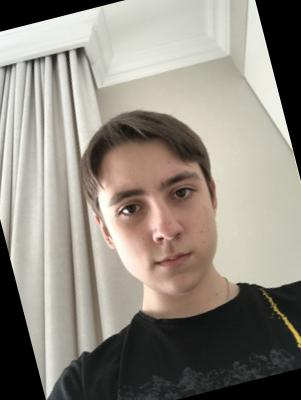without_mask: (96, 160, 232, 308)
